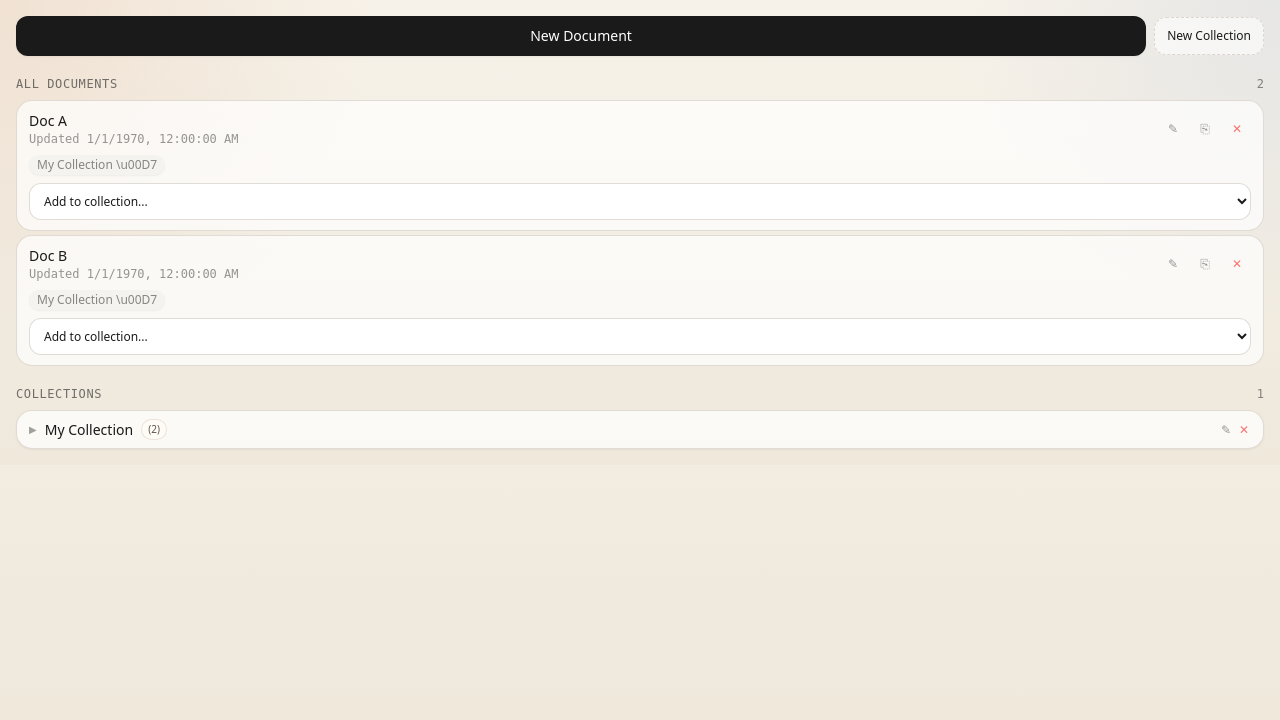
Scenario: DocumentHubSidebar delete-collection confirmation gate (#115) › does not delete the collection until the user confirms
This screenshot has width=1280, height=720.
What coordinates should you click on to do the following:
click the button named "Delete collection"
I would click on:
 (1244, 430)
Its box is [1237,420,1251,440].
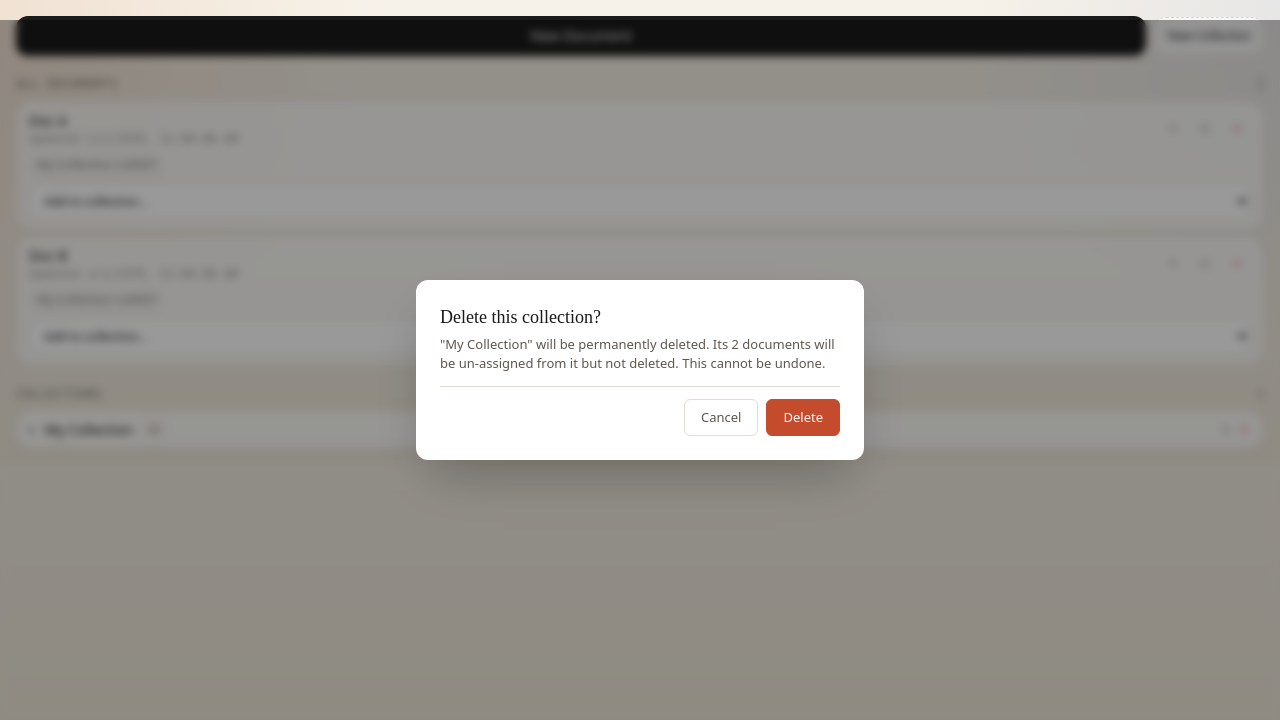
Expected: the text with class "confirmation-description" shows "My Collection", [440,335,835,372]
Expected: the text with class "confirmation-description" shows "2 documents", [440,335,835,372]
